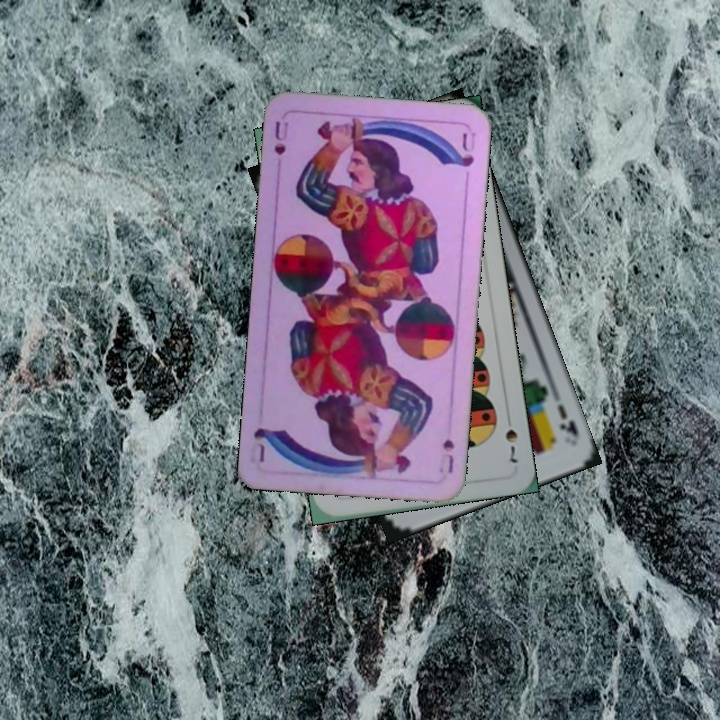EK: (553, 401, 582, 444)
S7: (501, 409, 521, 466)
SU: (434, 435, 457, 476), (270, 117, 291, 158)
